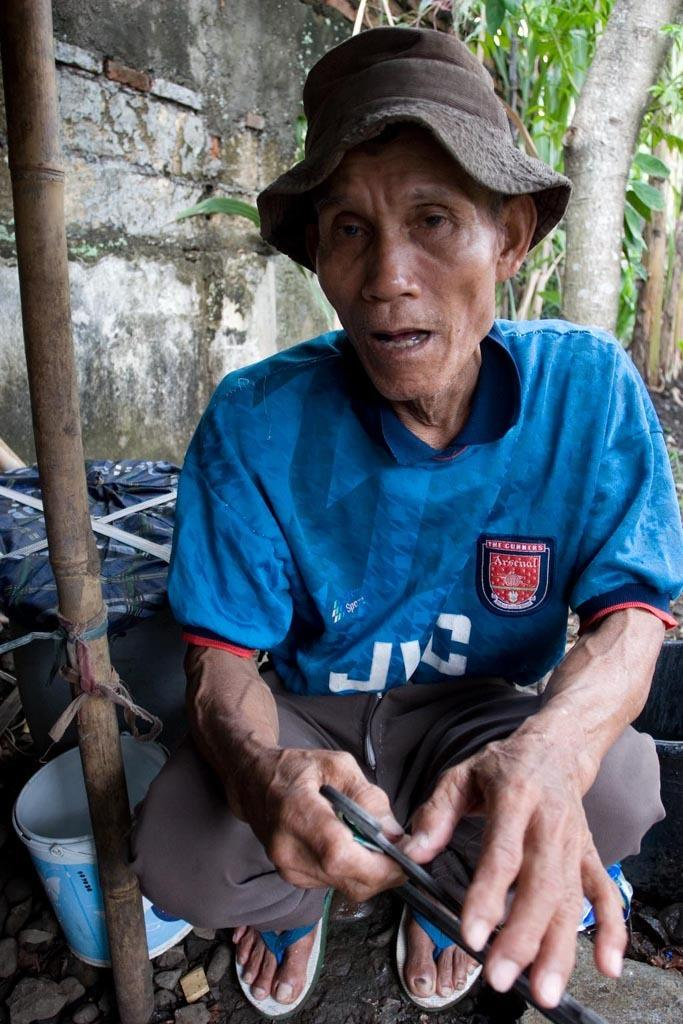Hat: (255, 21, 569, 273)
